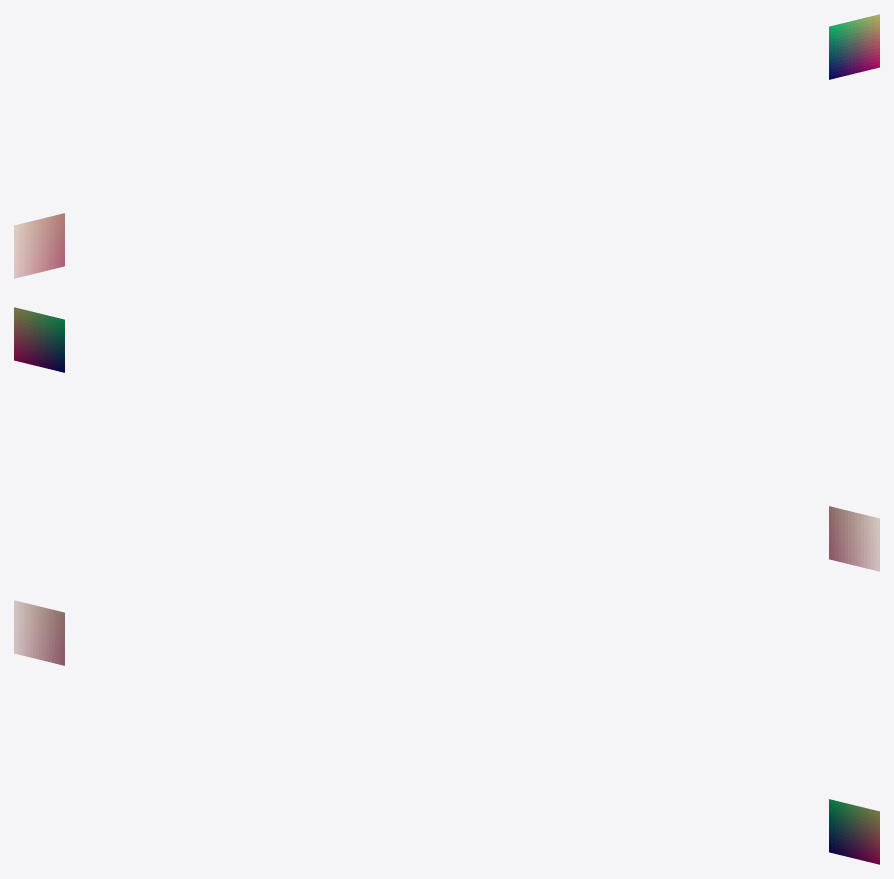
The picture shows the model from 3 angles, top to bottom: view 1: azimuth 30°, elevation 25°; view 2: azimuth 150°, elevation 25°; view 3: azimuth 330°, elevation 25°; orthographic projection.
Visible parts, largest first — view 1: quads; view 2: quads; view 3: quads.
Boxes of the visible parts, box(x1,y1,x2,y2) form: quads: box(14, 14, 879, 278); quads: box(14, 307, 879, 571); quads: box(14, 600, 879, 864).
Size of the model in its own units: 17 by 1 by 0.
Materials: 2 (2 with a texture image).
